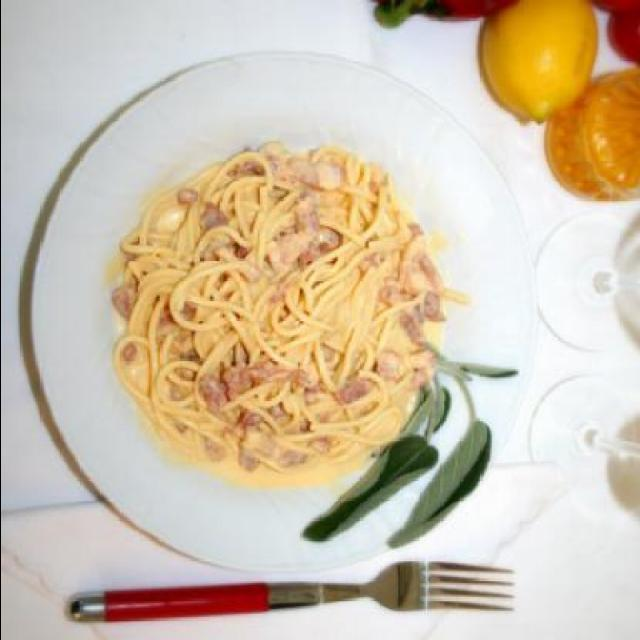Pasta with carbonara sauce: (93, 91, 501, 540)
